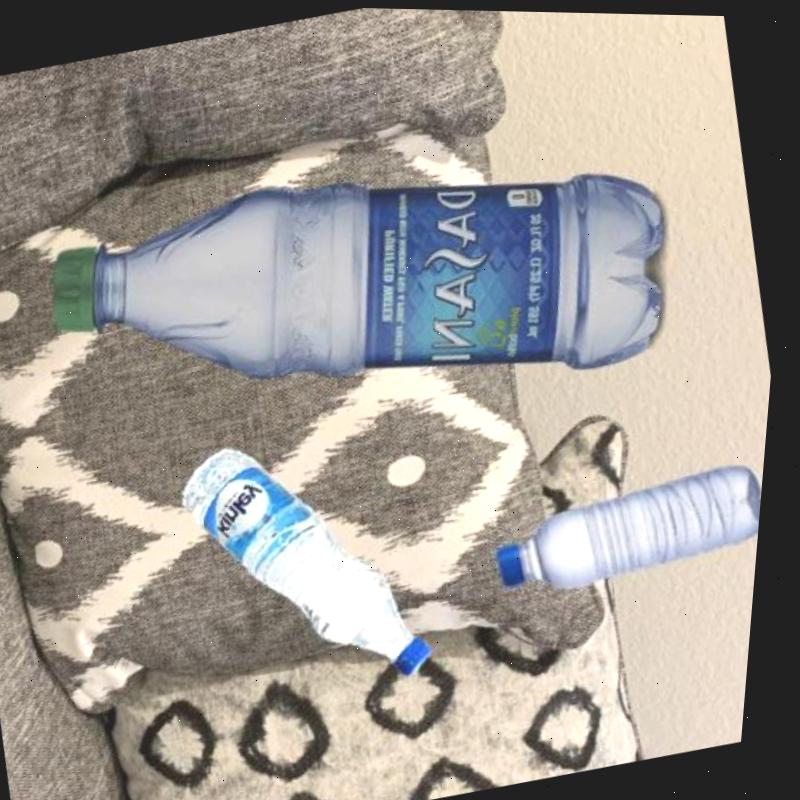botella: (36, 103, 704, 479), (165, 407, 464, 716), (493, 451, 772, 601)
